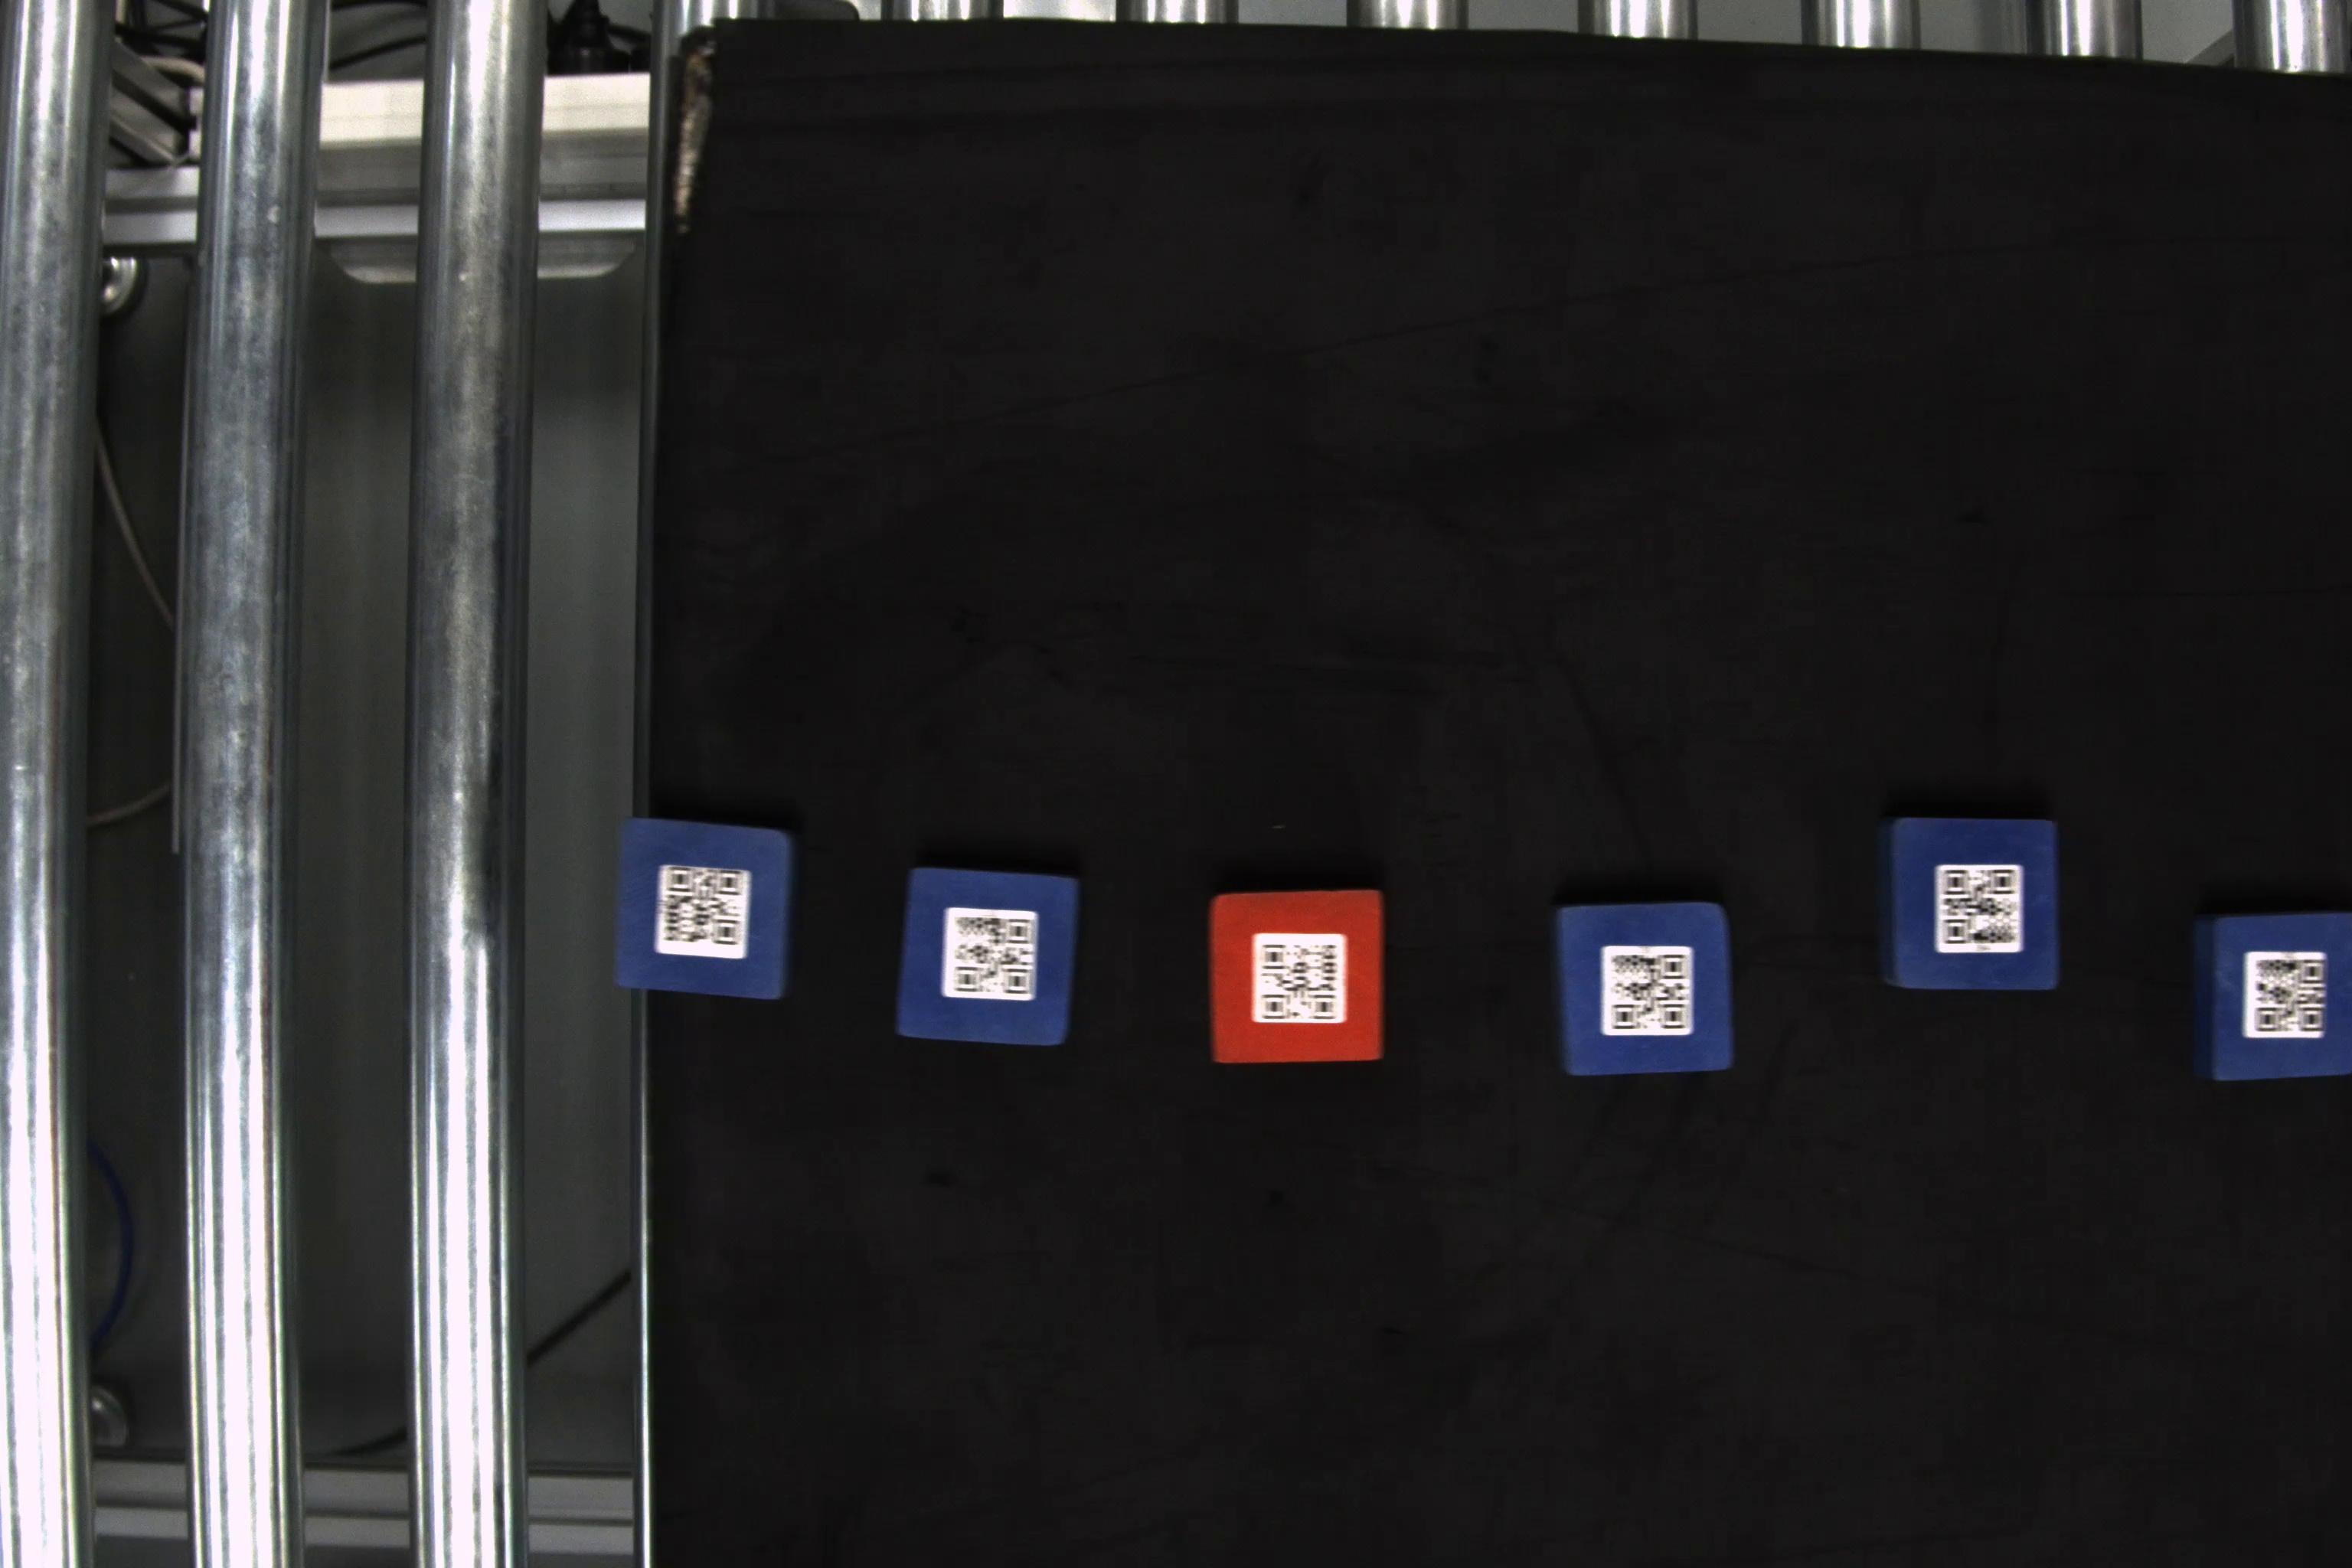wood: (898, 857, 1090, 1048), (611, 814, 801, 1003), (1204, 887, 1395, 1066), (1557, 899, 1739, 1078), (1879, 817, 2063, 994), (2193, 906, 2347, 1083)
